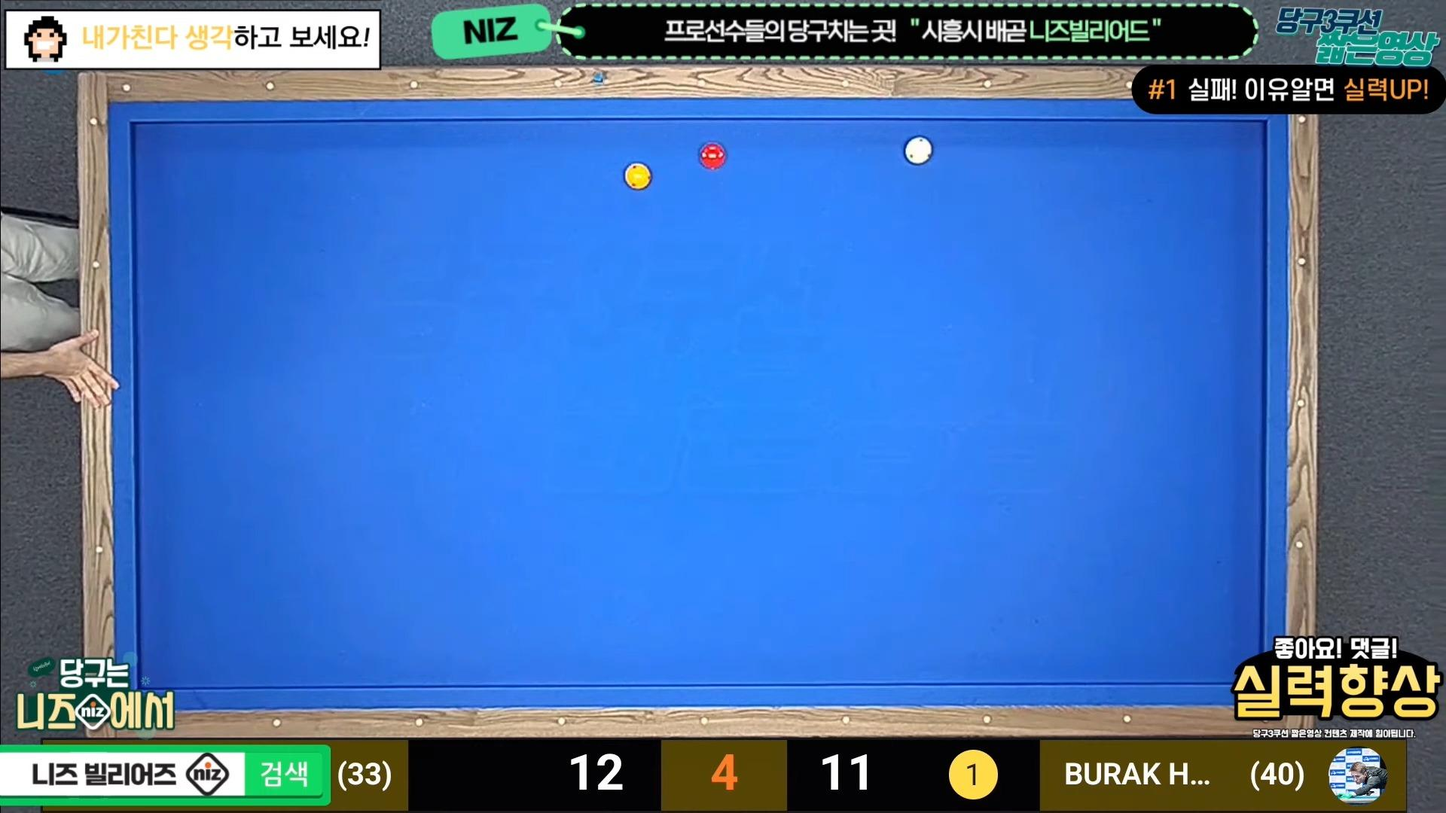-billiard-ball: (903, 135, 932, 165), (623, 162, 651, 190)
Red: (698, 141, 731, 170)
White: (905, 136, 939, 165)
Yellow: (623, 163, 655, 192)
